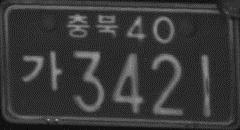0: (153, 15, 175, 44)
1: (192, 54, 217, 116)
2: (151, 52, 183, 116)
3: (72, 50, 105, 113)
4: (112, 52, 144, 113), (125, 16, 147, 41)
가: (21, 51, 61, 90)
충북_O: (67, 13, 119, 37)
